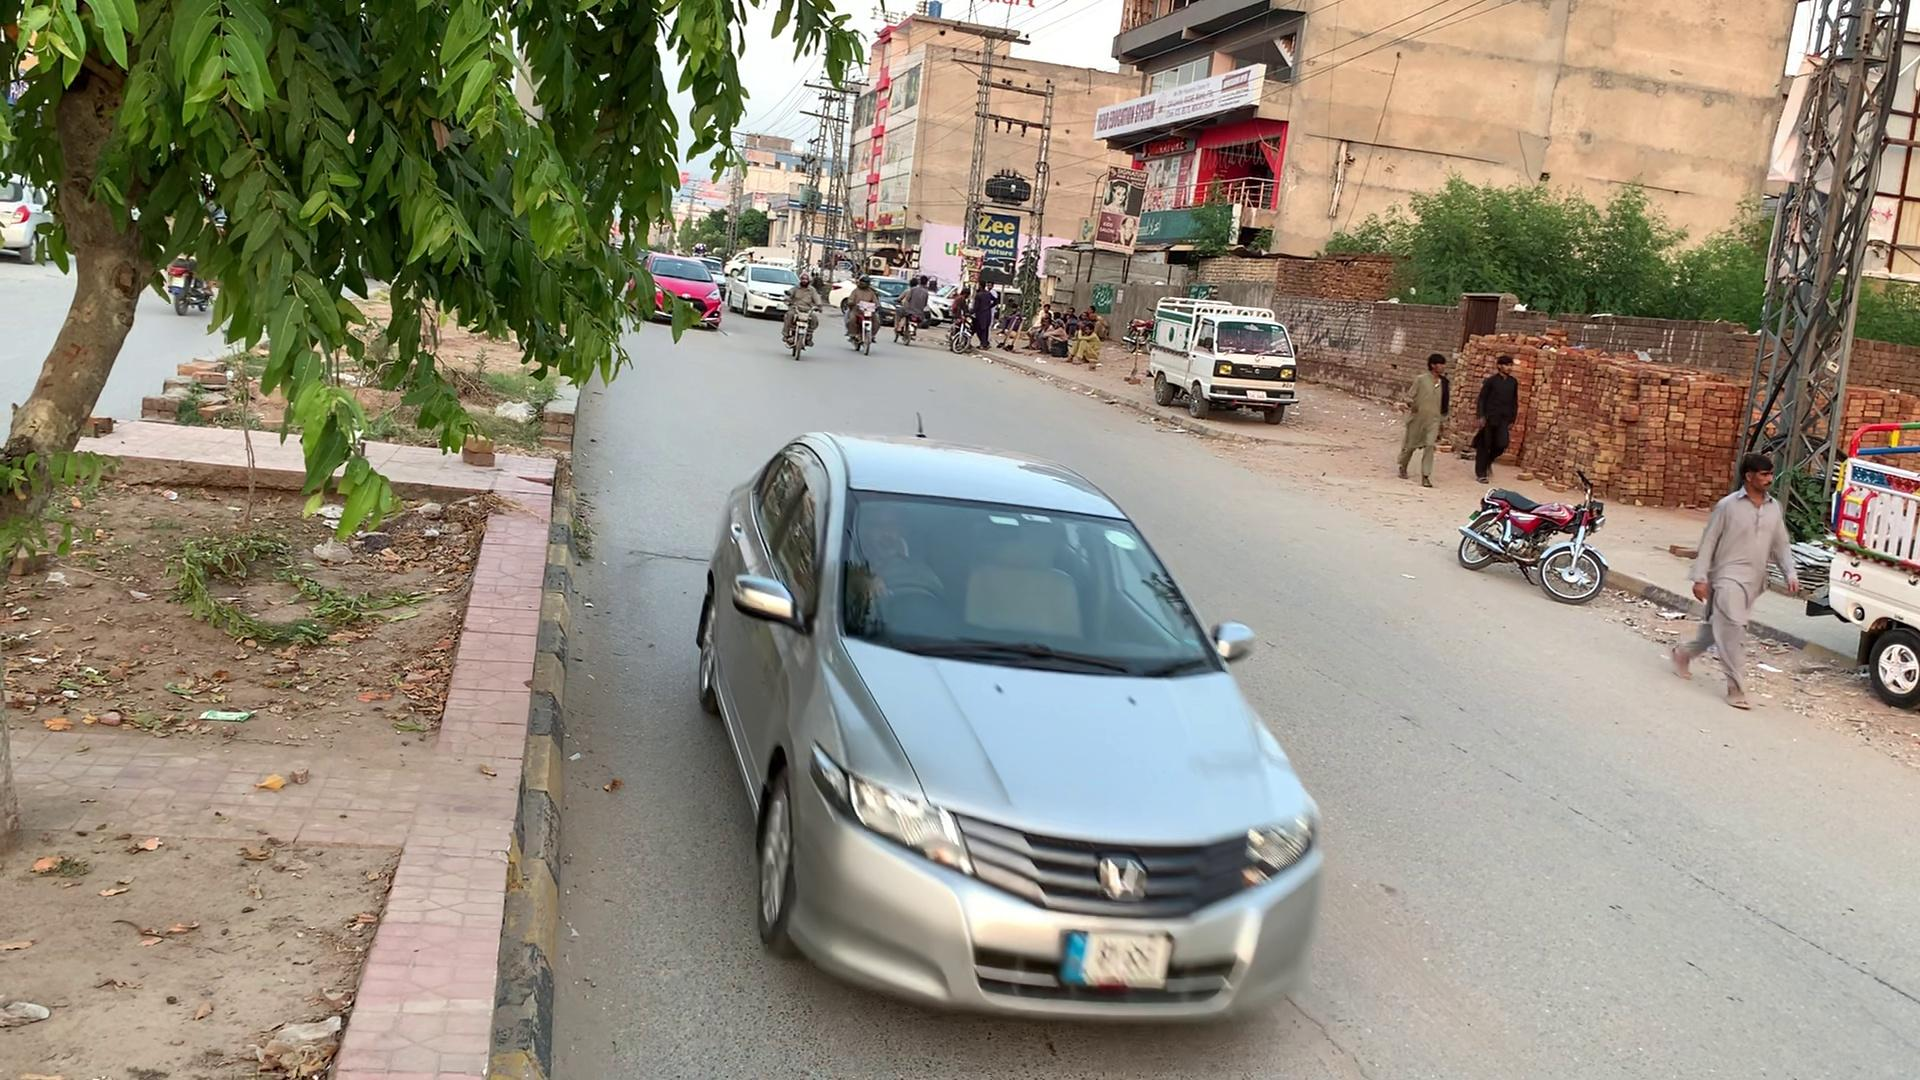windshield: (824, 473, 1244, 683)
